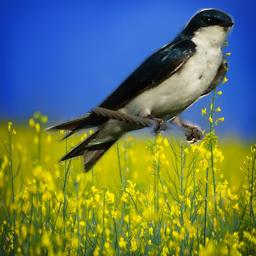Swallow: (44, 8, 235, 174)
